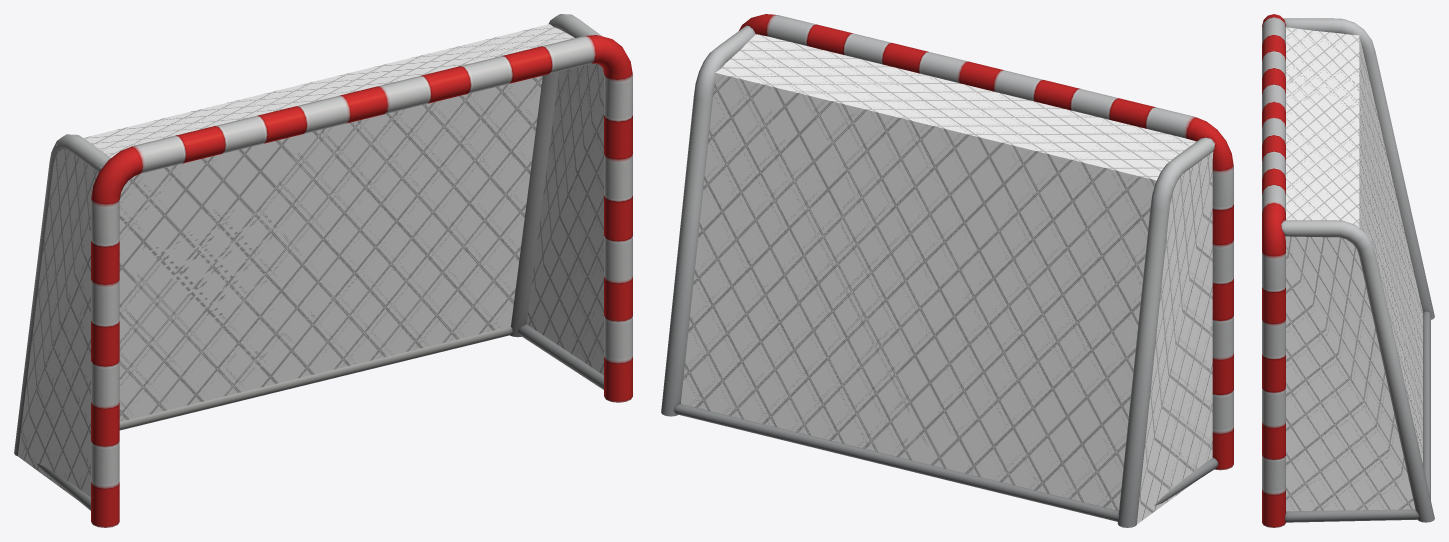
The model's file is football_gates_2_red.fbx.
The picture shows the model from 3 angles, left to right: view 1: azimuth 30°, elevation 25°; view 2: azimuth 150°, elevation 25°; view 3: azimuth 270°, elevation 25°; orthographic projection. The views are drawn at different scales.
Parts seen in each view (by area): view 1: goal_net, football_gates_2_red; view 2: goal_net, football_gates_2_red; view 3: goal_net, football_gates_2_red.
Part boxes in pixels (bbox=[...]): goal_net: bbox=[18, 24, 603, 499]; football_gates_2_red: bbox=[14, 14, 632, 527]; goal_net: bbox=[681, 34, 1214, 524]; football_gates_2_red: bbox=[661, 14, 1233, 527]; goal_net: bbox=[1285, 27, 1422, 511]; football_gates_2_red: bbox=[1262, 14, 1434, 527].
Bounding box in the file's own units: 330 × 215 × 109.
